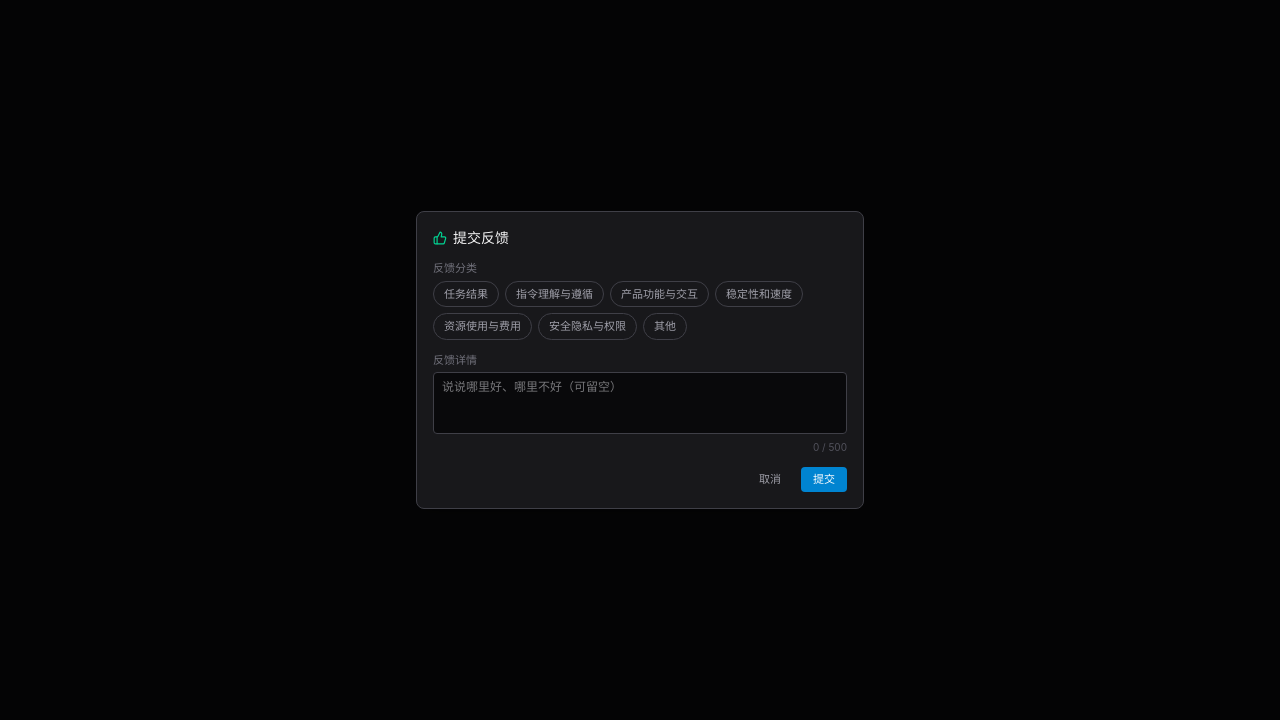
Test: MessageFeedbackDialog 提交 › 缺少 IPC 桥时映射成 loadFailed 文案
Click the button "提交" at (824,480), box [801,467,847,492]
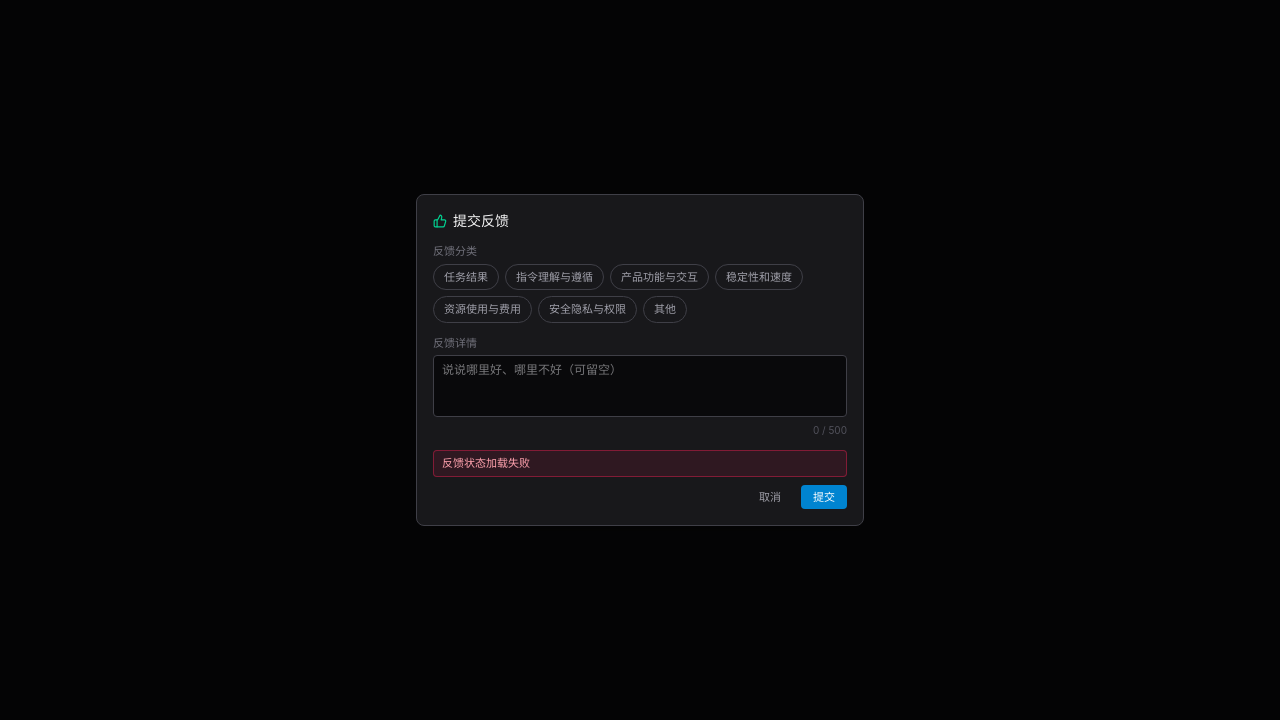
expect the message reads "反馈状态加载失败": met, box [442,456,530,470]
